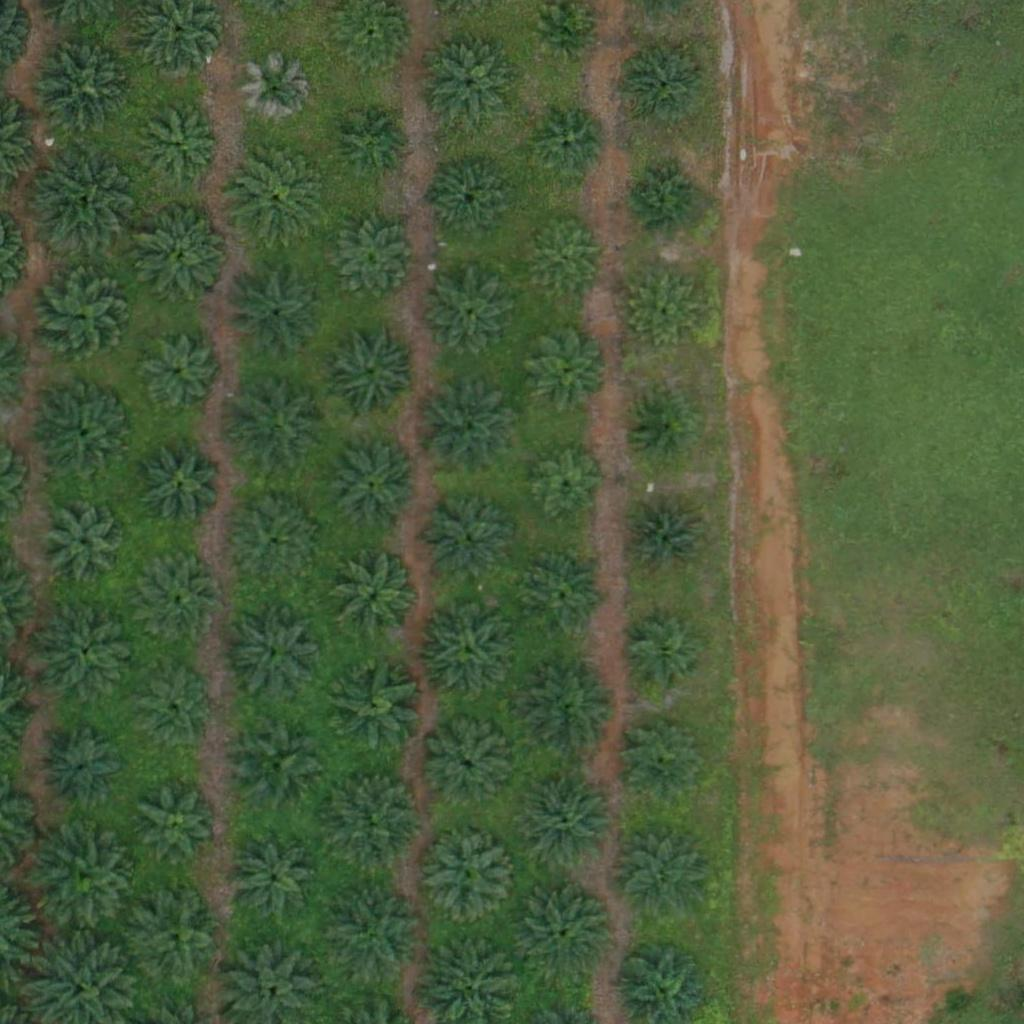Kelapa_Sawit: (27, 145, 139, 259), (33, 36, 133, 137), (231, 145, 331, 246), (414, 379, 514, 480), (319, 210, 419, 311), (319, 320, 419, 421), (225, 260, 325, 361), (38, 601, 138, 702), (228, 713, 328, 814), (323, 766, 423, 867), (328, 887, 428, 988), (419, 826, 519, 927), (521, 771, 621, 872), (514, 882, 614, 983), (517, 660, 617, 760), (417, 599, 517, 699), (323, 656, 423, 756), (228, 376, 328, 476), (223, 603, 323, 703), (133, 204, 233, 304), (32, 266, 132, 366), (36, 382, 136, 482), (36, 829, 136, 929), (124, 887, 224, 987), (429, 157, 517, 246), (425, 722, 513, 811), (328, 97, 416, 185), (619, 615, 707, 703), (619, 43, 707, 131), (522, 552, 610, 640), (424, 271, 512, 359), (423, 496, 511, 584), (136, 333, 224, 421), (230, 836, 318, 924), (520, 324, 607, 412), (623, 496, 710, 584), (426, 43, 513, 131), (328, 444, 415, 532), (331, 555, 418, 643), (231, 504, 318, 592), (43, 496, 130, 584), (619, 716, 706, 804), (619, 831, 706, 919), (143, 107, 218, 183), (145, 450, 220, 526), (143, 561, 218, 637), (46, 731, 121, 807), (140, 784, 215, 860), (533, 108, 608, 183), (531, 450, 606, 525), (623, 271, 698, 346), (630, 163, 705, 238), (239, 54, 314, 129), (525, 219, 600, 294), (135, 676, 210, 751), (628, 394, 691, 457), (535, 3, 598, 66)
